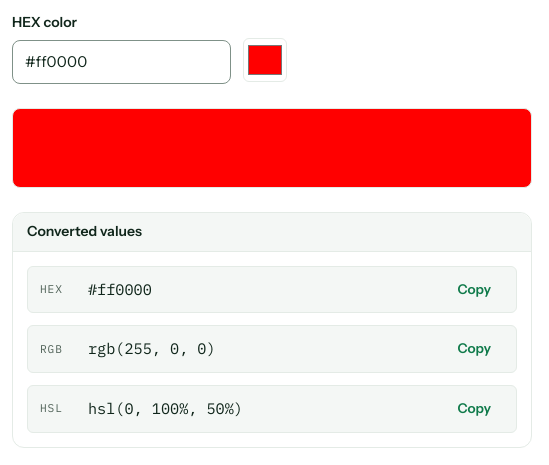
ColorConverter › shows error for invalid hex
Replace the text in the field with placeholder "#rrggbb or #rgb" with "#xyz" at (122, 62), box [12,40,231,84]
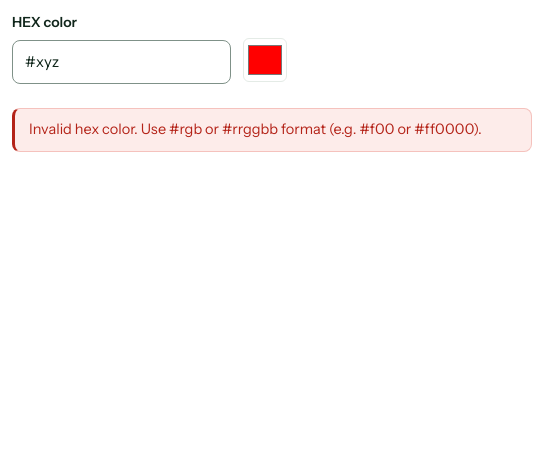
Expected: the text "Invalid hex color" is shown, [29,120,482,138]
